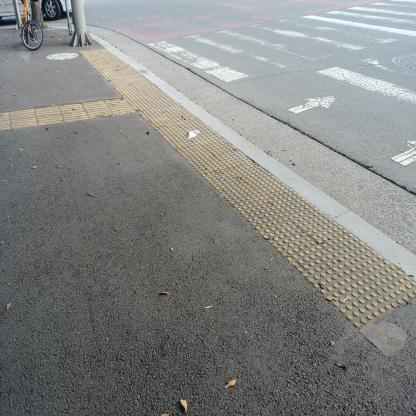podotacti: (156, 134, 416, 343), (78, 35, 207, 132), (0, 96, 140, 135)
